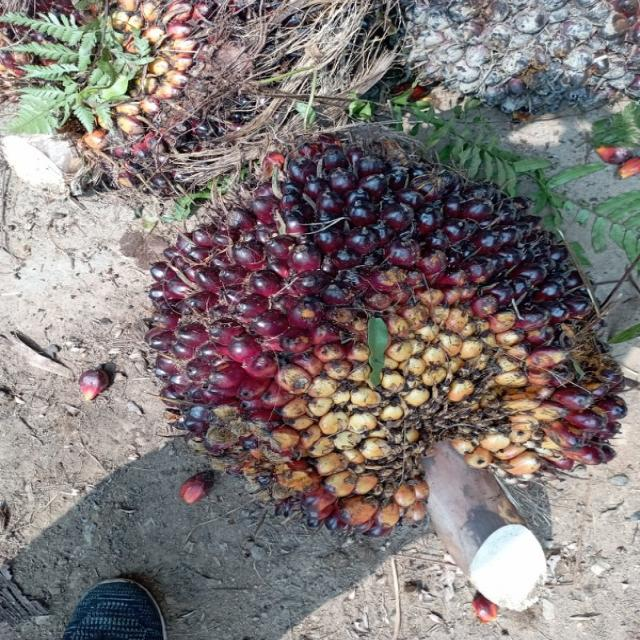fraksi 1: (81, 116, 629, 564)
